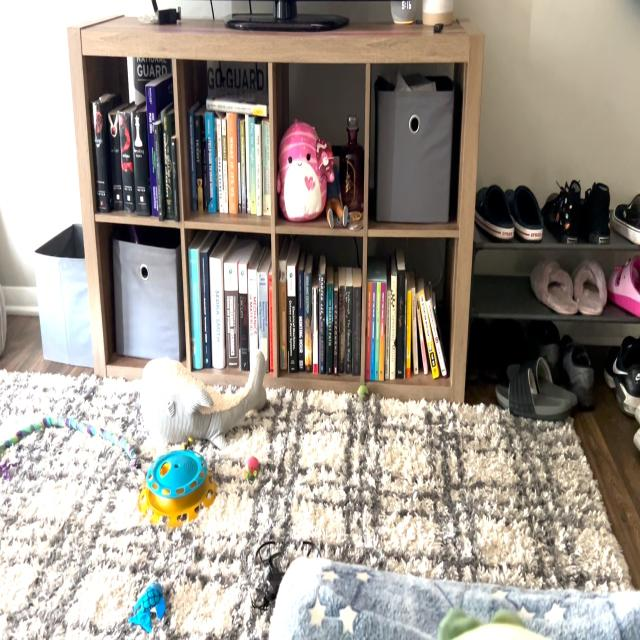drone: (250, 524, 323, 640)
